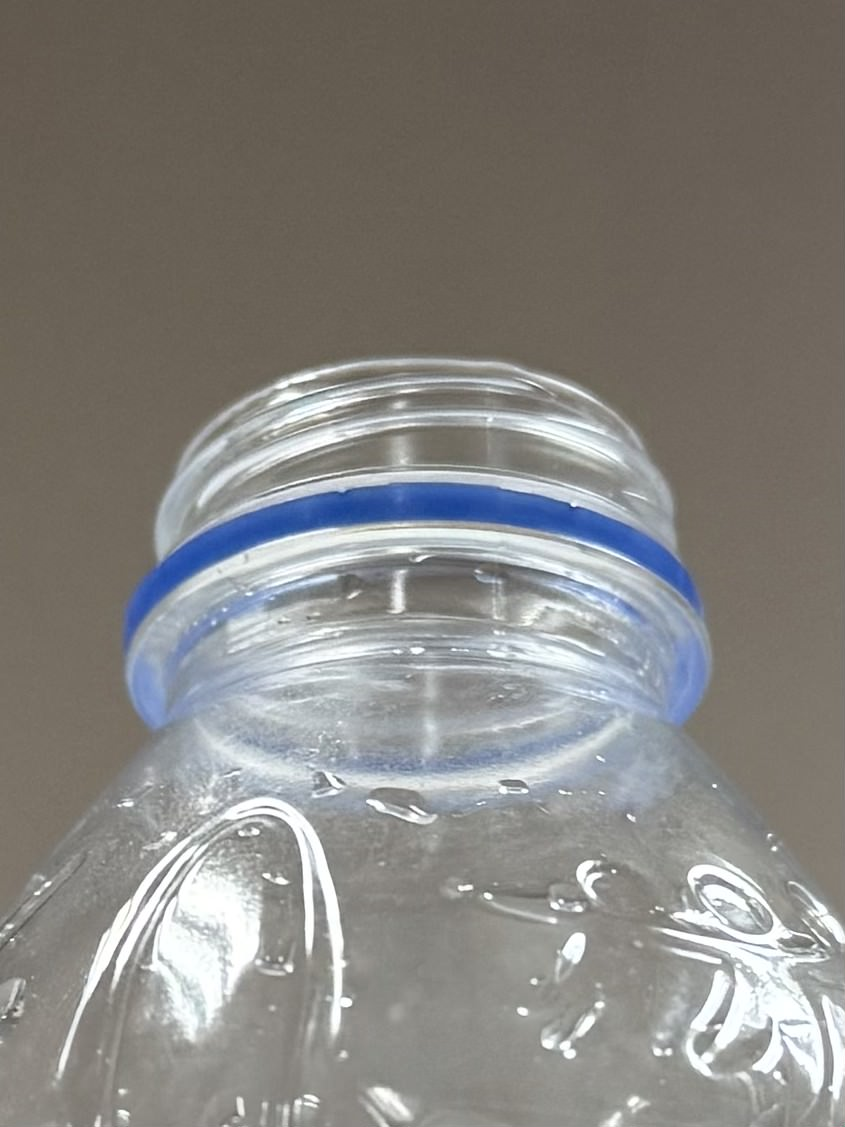no_cap: (121, 349, 718, 696)
